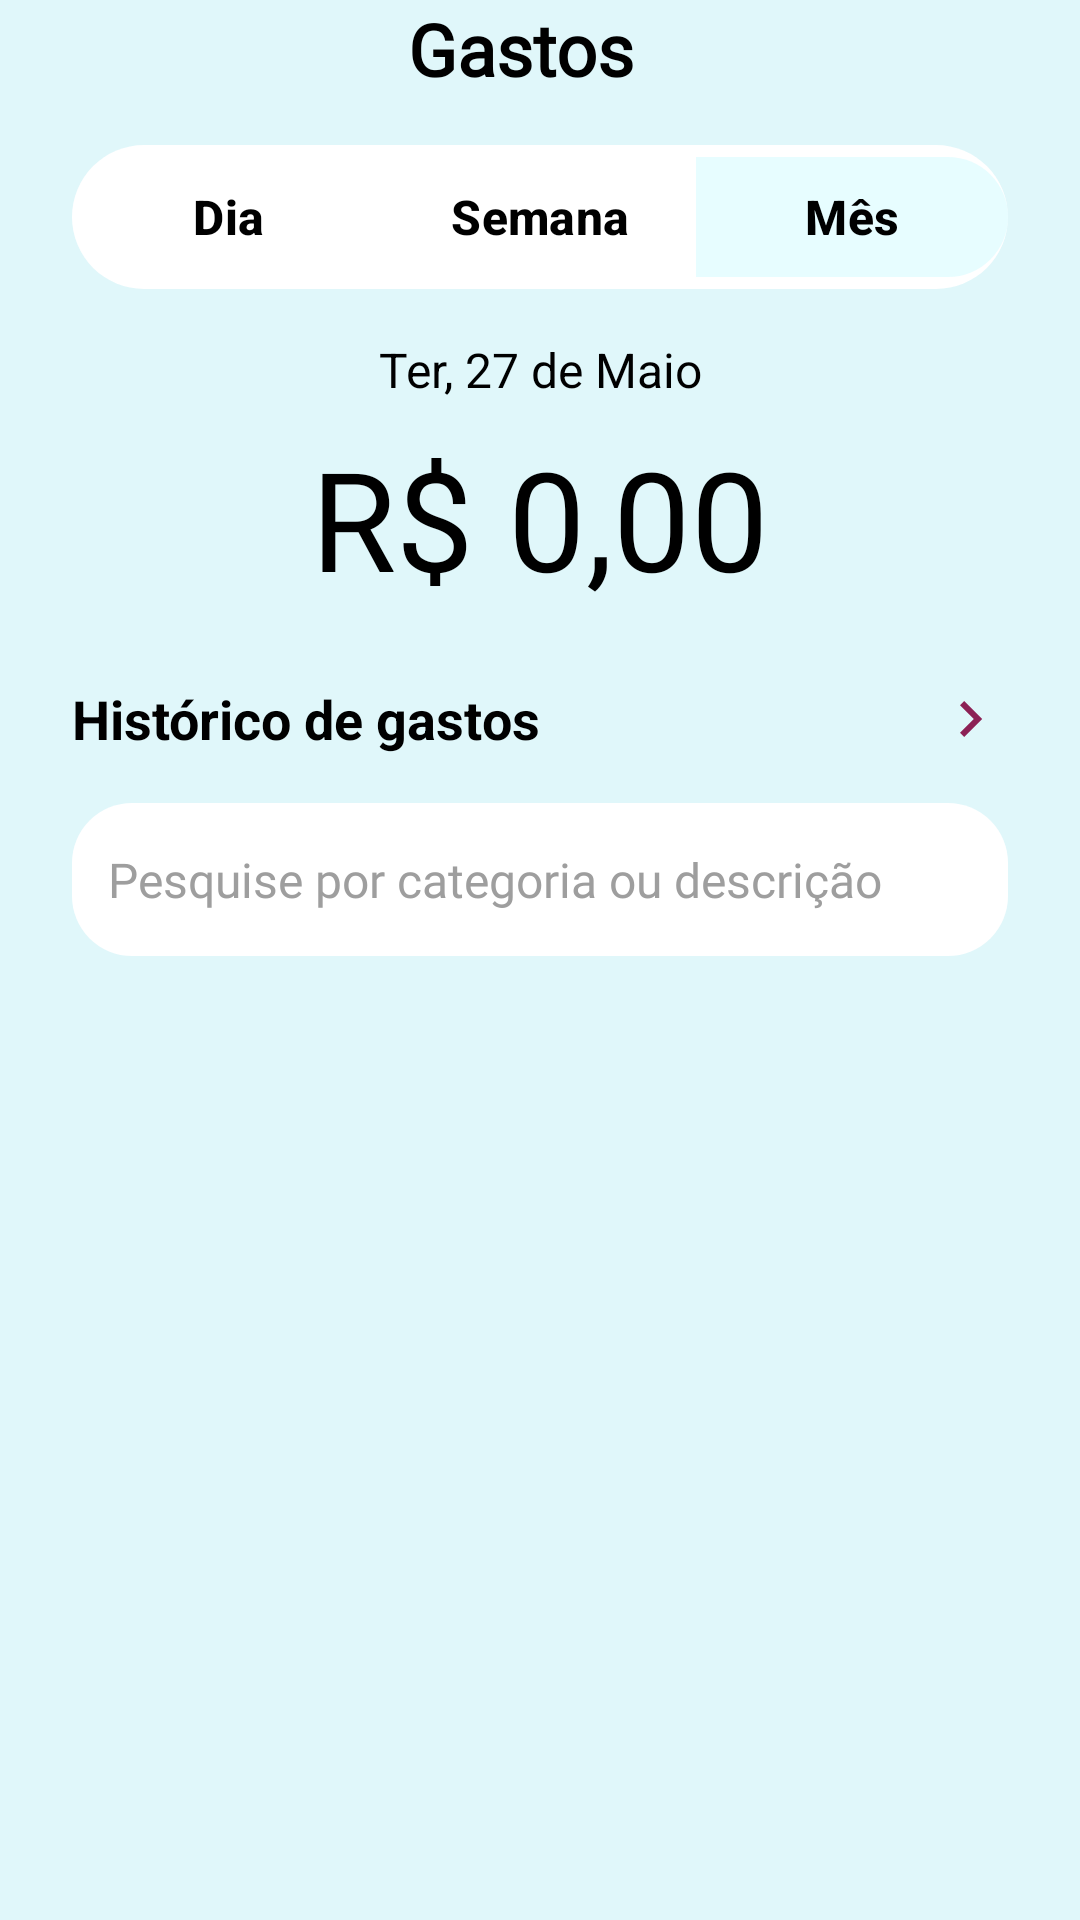

Screen size 1080w x 1920h. Icon name, then its box in pixels as box(x1, y1, x2, y2):
Ver todos os gastos: box(960, 701, 982, 737)
